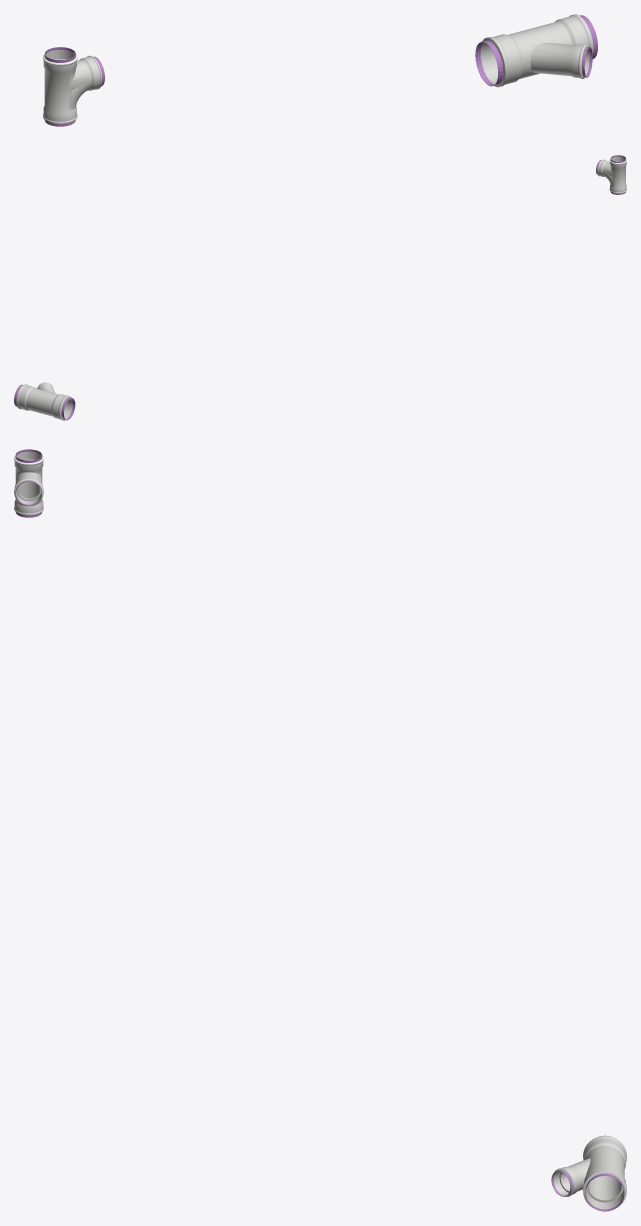
Rendered from slab_pipes_dwv__sewer__1cc0c8fd.glb.
3 views of the same model, one above another, from view 1: azimuth 30°, elevation 25°; view 2: azimuth 150°, elevation 25°; view 3: azimuth 270°, elevation 25° (orthographic). The views are drawn at different scales.
Visible parts, largest first — view 1: fit_wye_pipe_dwv_kitchen__quarter, fit_tee_pipe_dwv_kitchen__quarter; view 2: fit_wye_pipe_dwv_kitchen__quarter, fit_tee_pipe_dwv_kitchen__quarter; view 3: fit_wye_pipe_dwv_kitchen__quarter, fit_tee_pipe_dwv_kitchen__quarter.
Boxes of the visible parts, box(x1,y1,x2,y2) form: fit_wye_pipe_dwv_kitchen__quarter: box(475, 14, 597, 87); fit_tee_pipe_dwv_kitchen__quarter: box(43, 47, 104, 126); fit_wye_pipe_dwv_kitchen__quarter: box(14, 382, 75, 420); fit_tee_pipe_dwv_kitchen__quarter: box(596, 155, 626, 194); fit_wye_pipe_dwv_kitchen__quarter: box(551, 1135, 626, 1211); fit_tee_pipe_dwv_kitchen__quarter: box(14, 449, 43, 517).
Size of the model in its own units: 1.99 by 1.01 by 1.4.
